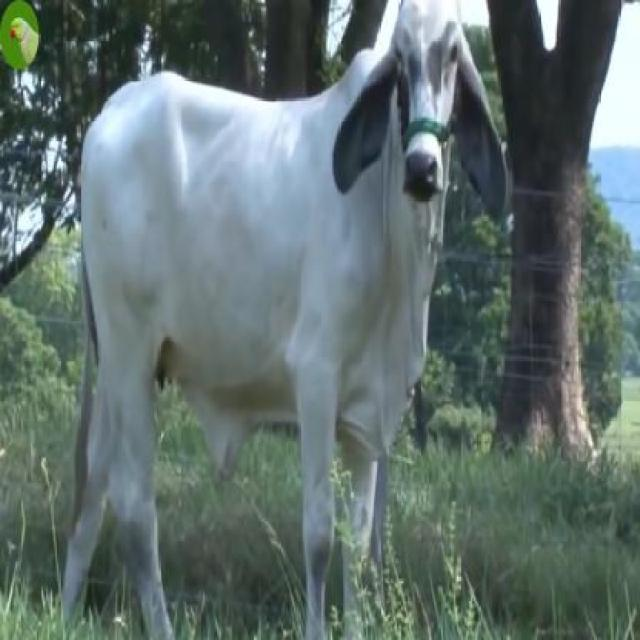Cow: (63, 0, 507, 638)
